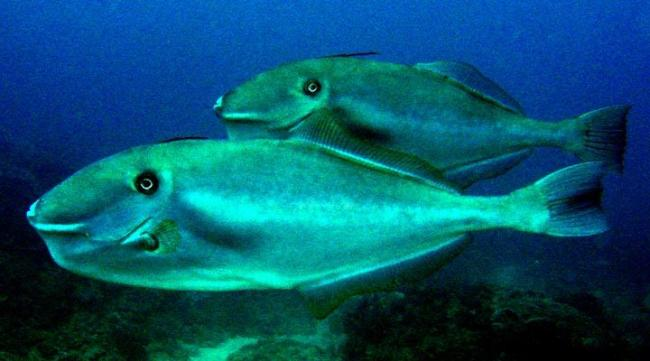fish: (26, 137, 615, 294), (214, 55, 631, 184)
